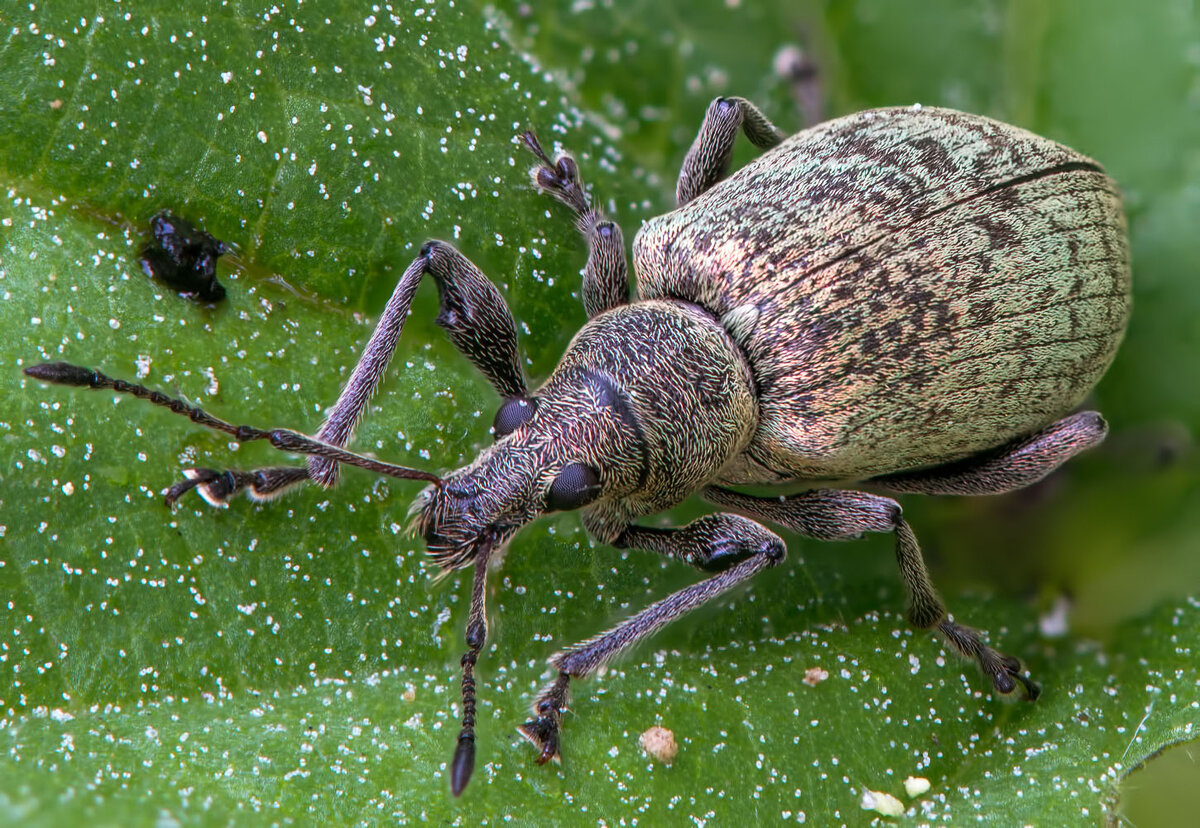dolgonosik: (67, 106, 1146, 792)
